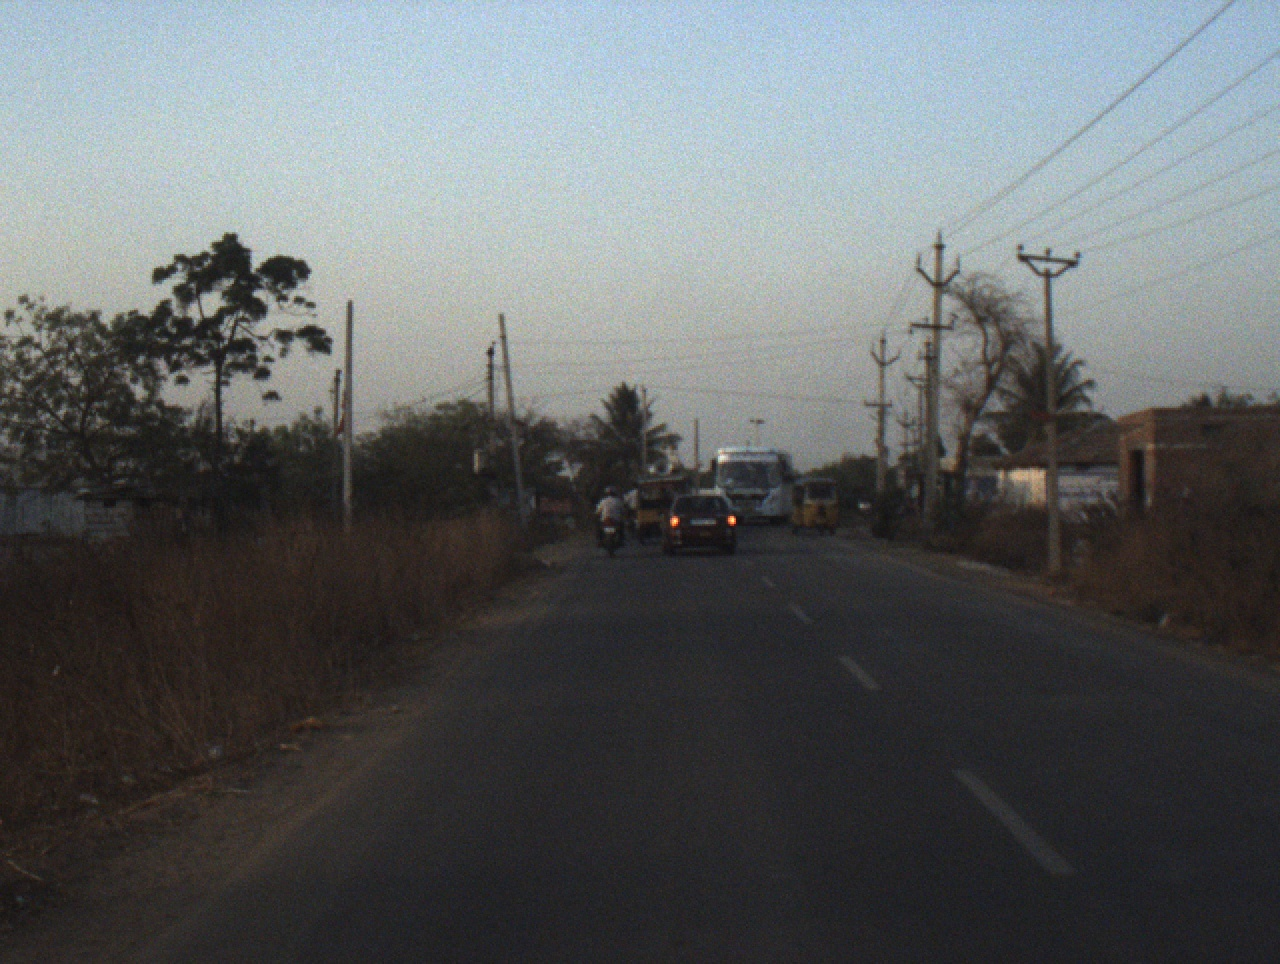autorickshaw: (630, 459, 697, 550), (781, 475, 841, 538)
bus: (708, 448, 793, 523)
car: (666, 489, 743, 556)
motorcycle: (596, 515, 623, 558), (626, 511, 633, 530)
rider: (593, 482, 626, 544), (627, 483, 638, 513)
